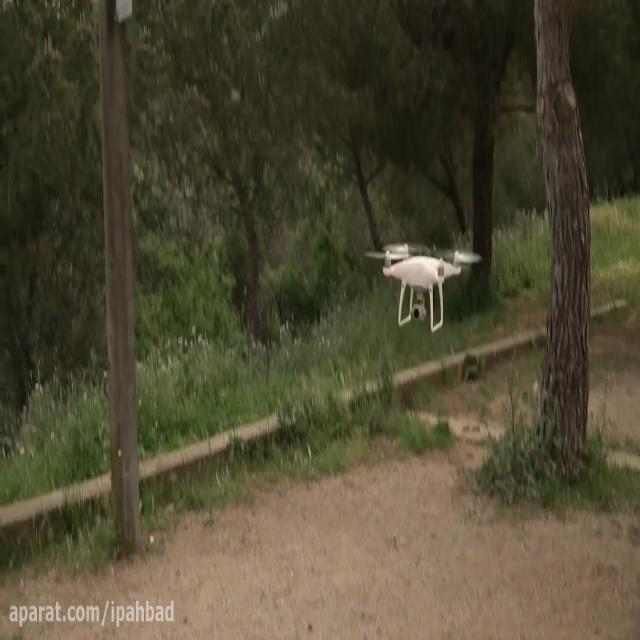drone: (364, 240, 482, 329)
